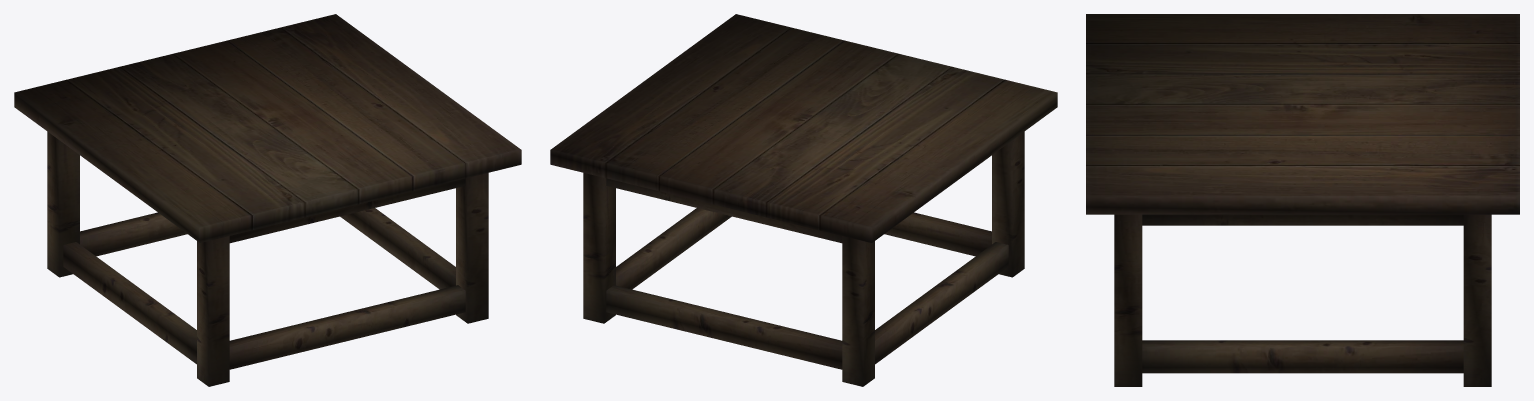
File: Tv_Table.glb
3 renders of one model, left to right at view 1: azimuth 30°, elevation 25°; view 2: azimuth 150°, elevation 25°; view 3: azimuth 270°, elevation 25°, orthographic. The views are drawn at different scales.
Parts seen in each view (by area): view 1: table_wood; view 2: table_wood; view 3: table_wood.
Part boxes in pixels (x1,y1,x2,y2): table_wood: (14,14,521,386); table_wood: (550,14,1057,386); table_wood: (1086,14,1519,386).
Size of the model in its own units: 1.52 by 0.78 by 1.52.
Materials: 1 (1 with a texture image).
